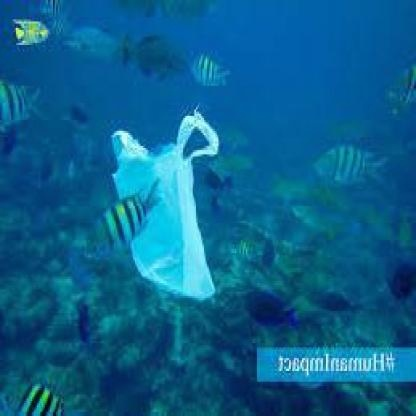pbag: (109, 110, 220, 304)
